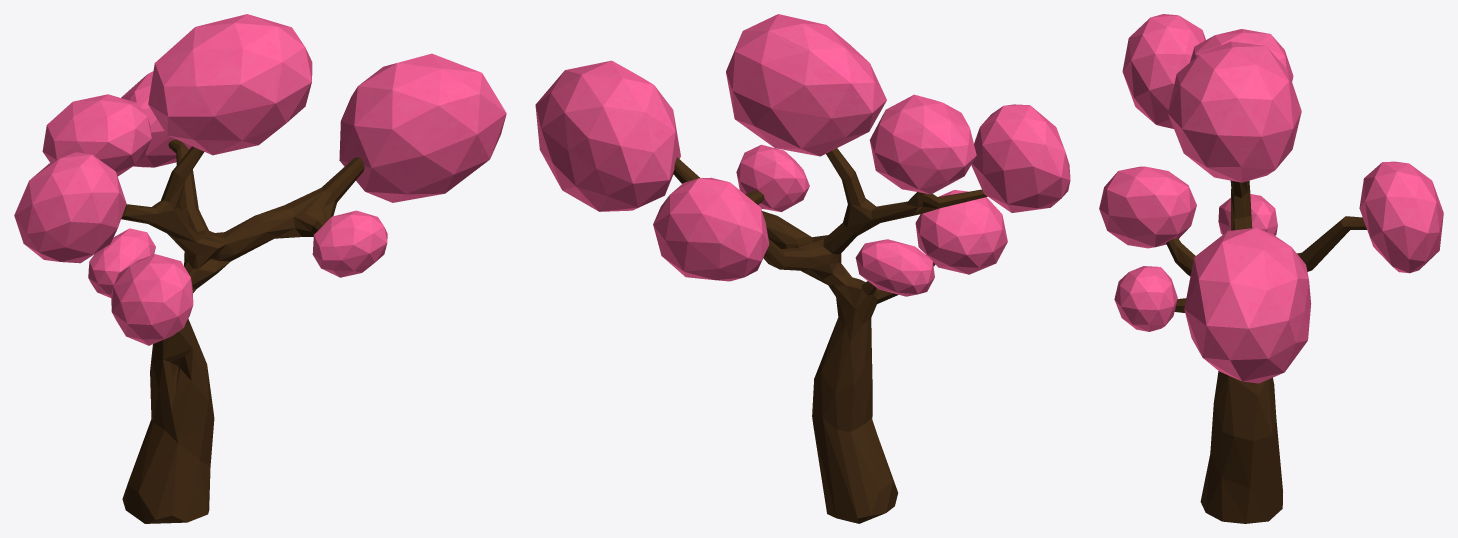
The model's file is cherry.obj.
3 views of the same model, side by side, from view 1: azimuth 30°, elevation 25°; view 2: azimuth 150°, elevation 25°; view 3: azimuth 270°, elevation 25° (orthographic). The views are drawn at different scales.
Size of the model in its own units: 11.42 by 10.29 by 6.48.
Materials: 2 (2 with a texture image).
